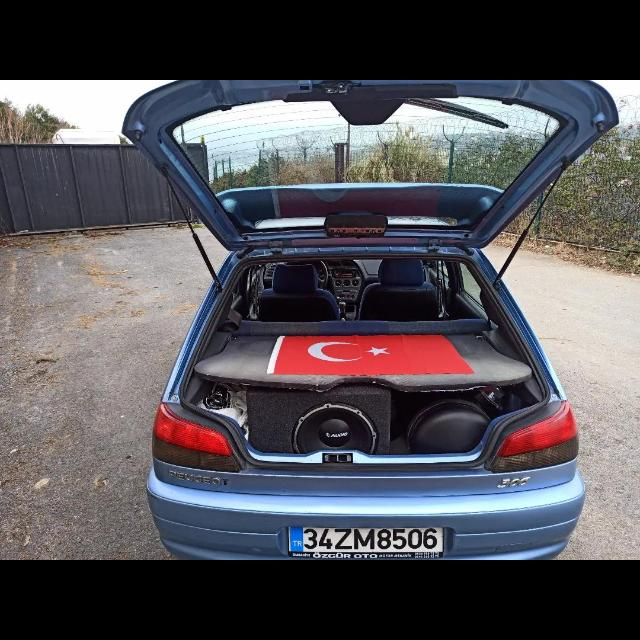Plaka: (291, 524, 444, 550)
